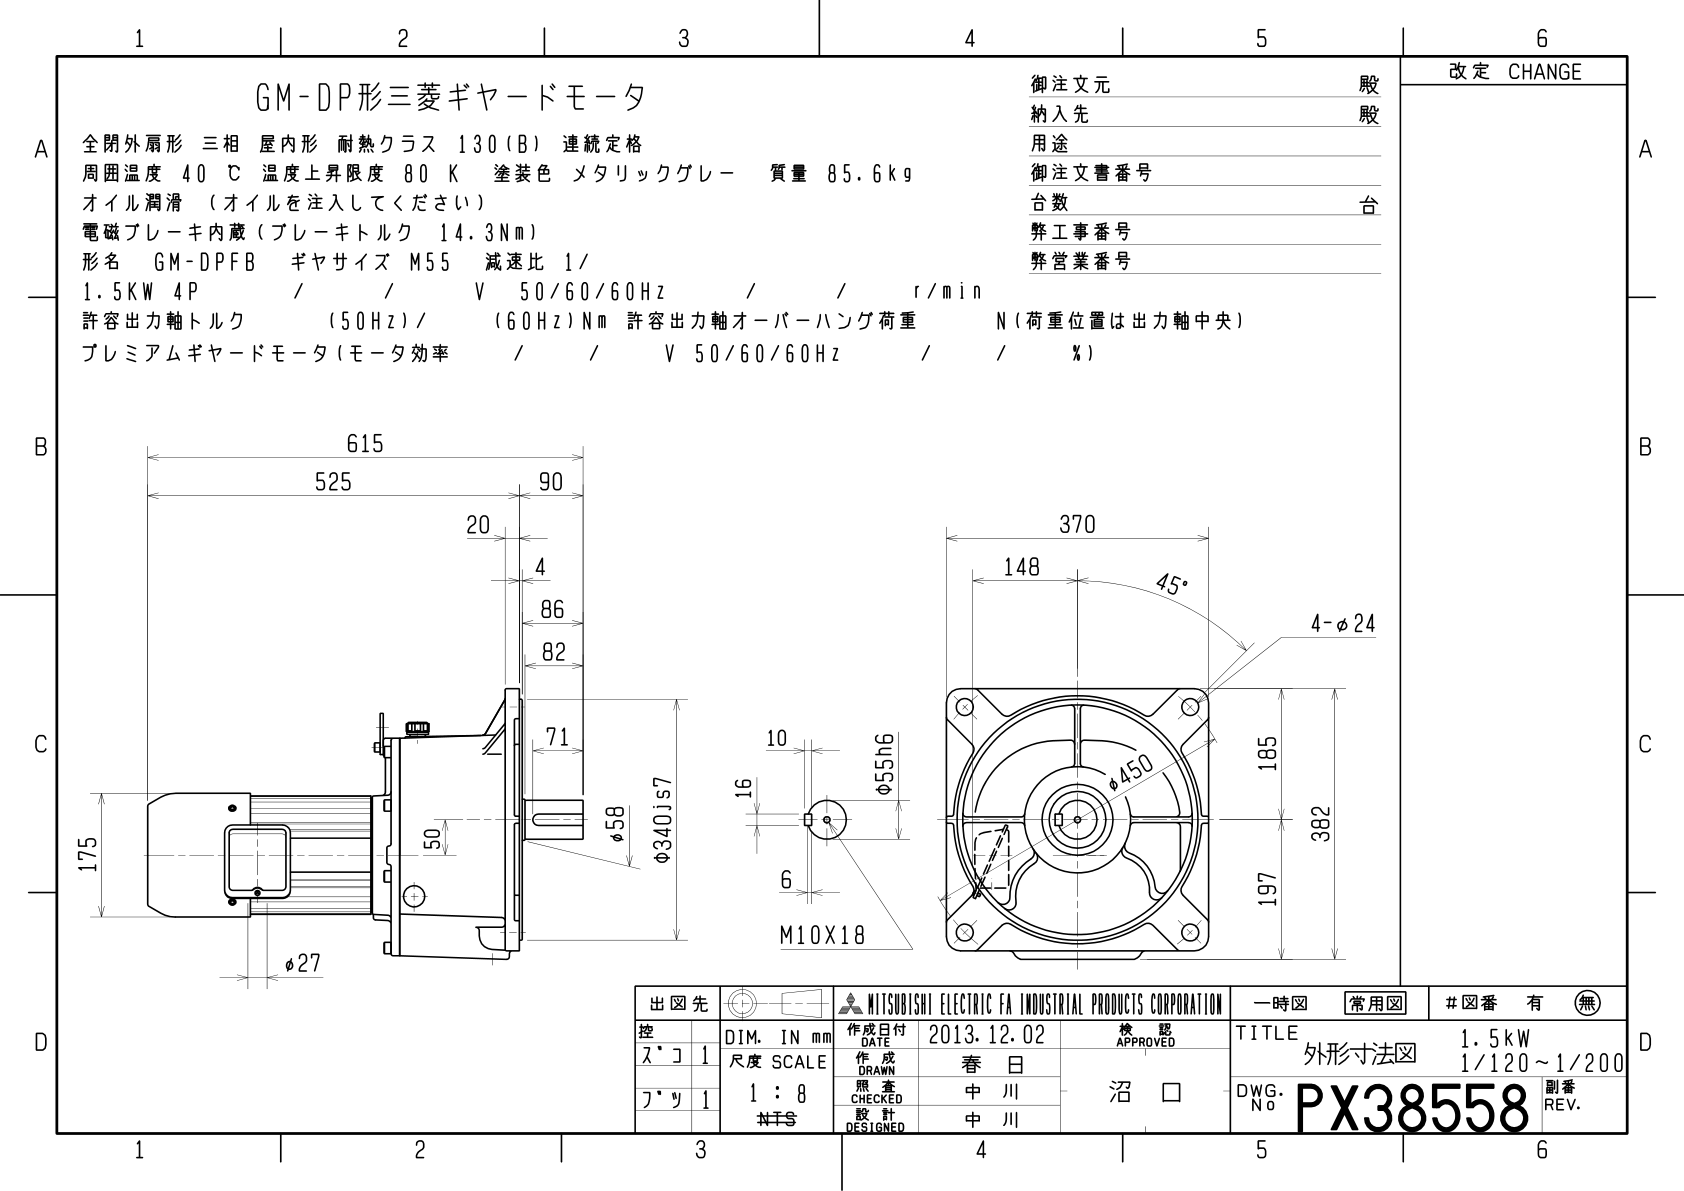GM_DP_屋内_三相_フランジ: (75, 412, 1389, 980)
